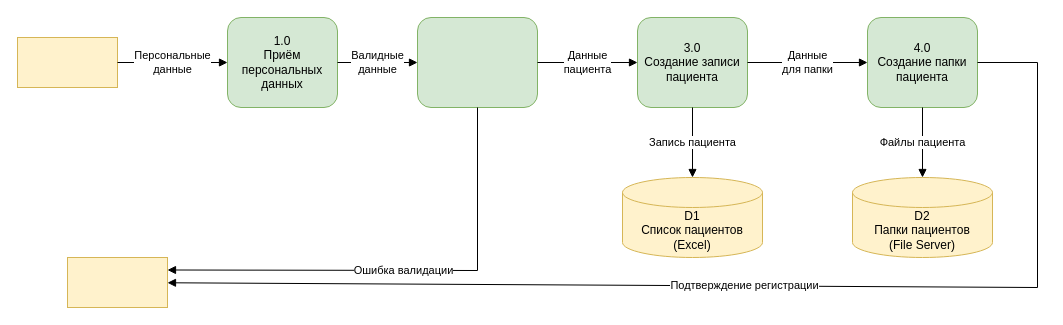
This 1063x325 diagram has some shape labels left out. The centre of each missing label's shape, as x and y in pixels:
"2.0 Валидация данных" goes at pixel 477 62.
"Пациент" goes at pixel 67 62.
"Ресепшен" goes at pixel 117 282.
